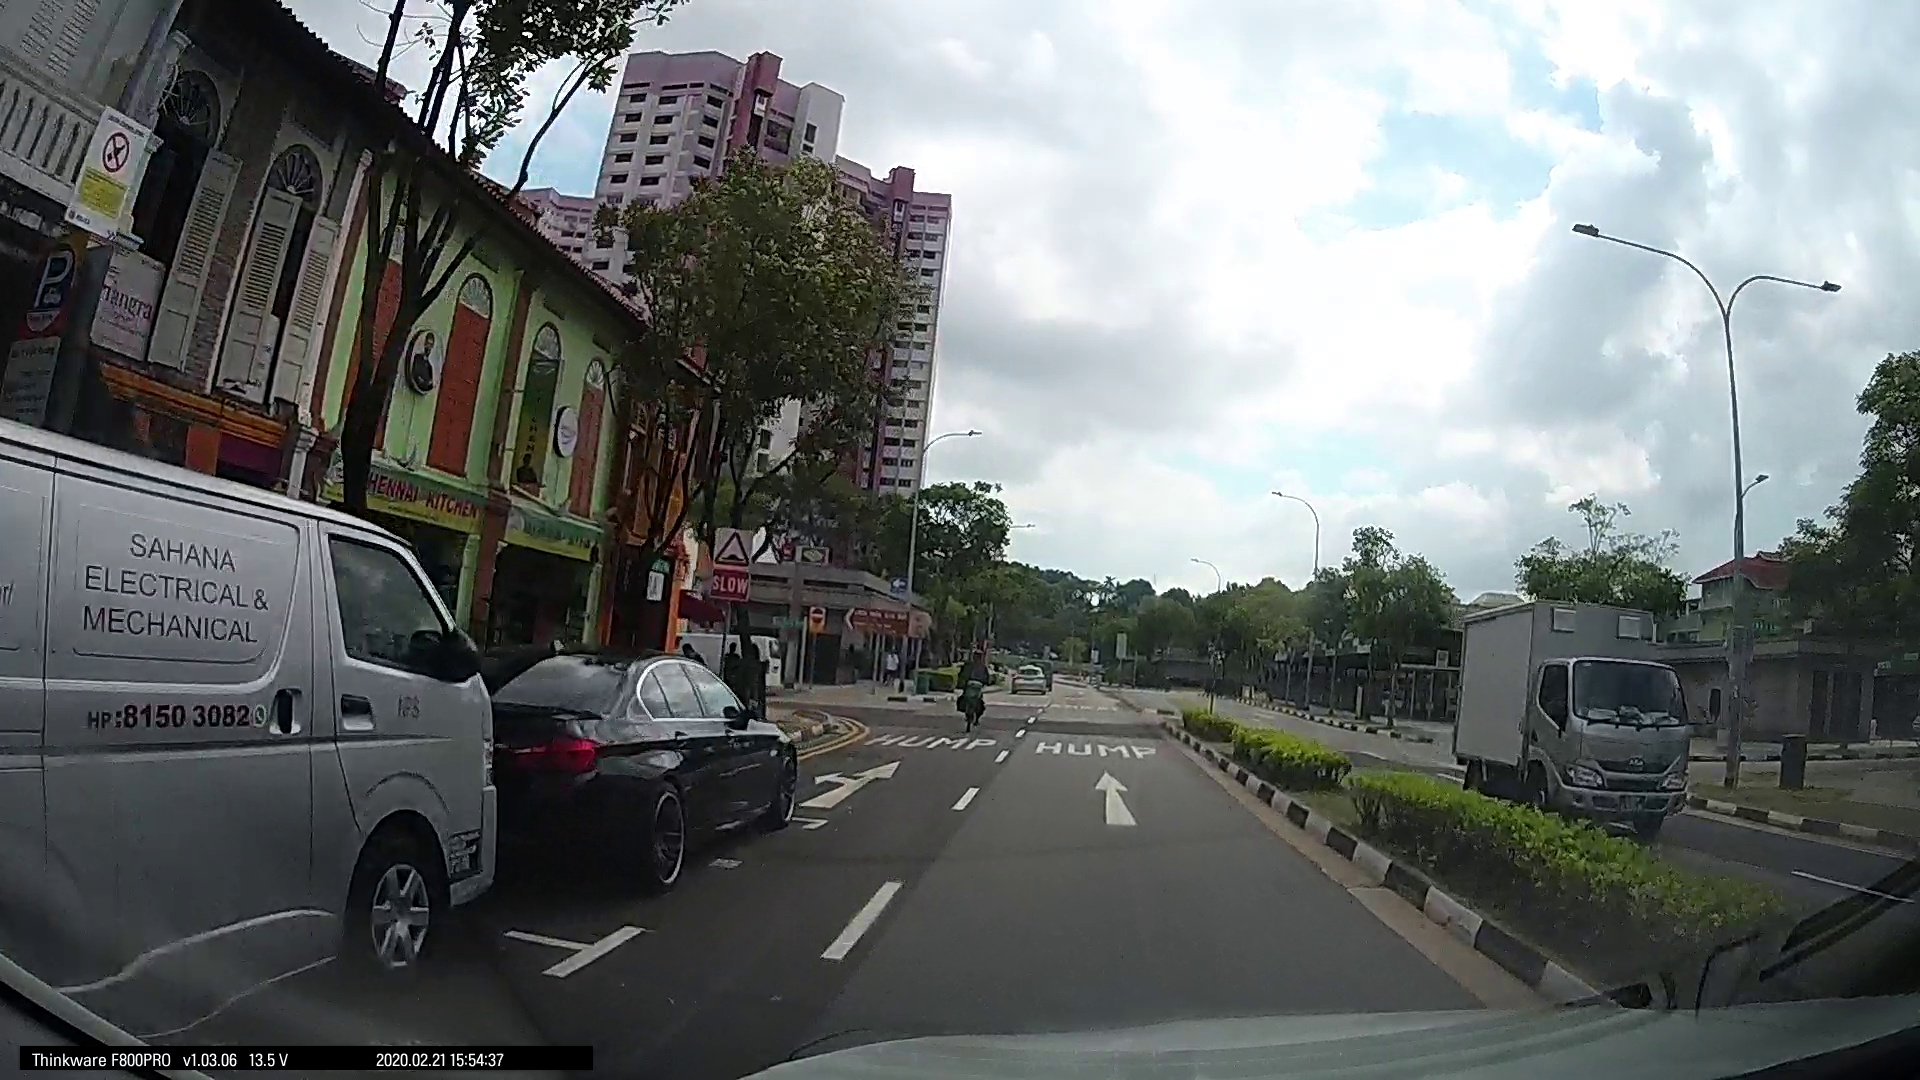Heavy Vehicle: (1443, 601, 1697, 831)
Light Vehicle: (1, 454, 512, 1027), (469, 640, 802, 889), (1006, 657, 1048, 694)
